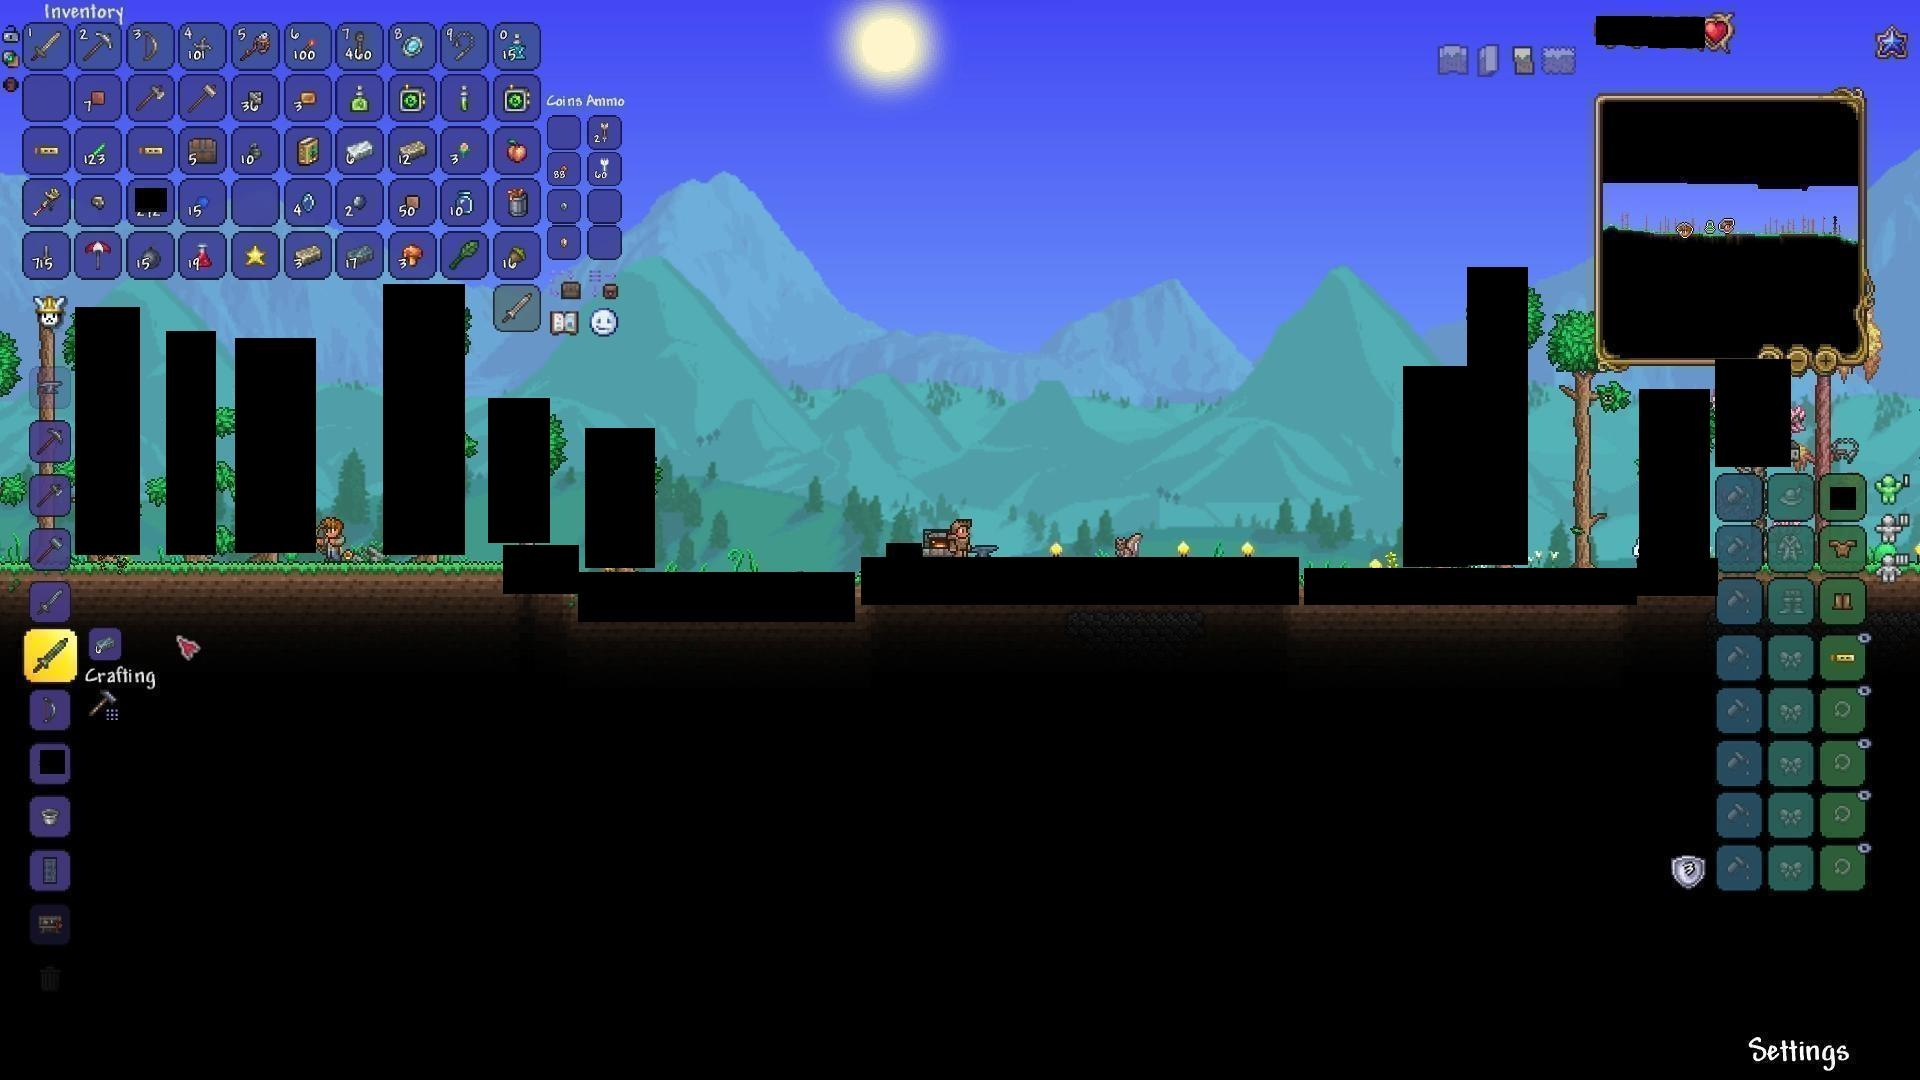breastplate: (1829, 538, 1857, 559)
dirt: (87, 556, 498, 593)
heart: (1702, 17, 1731, 47)
legs: (1832, 589, 1858, 615)
tree: (1549, 318, 1606, 564)
